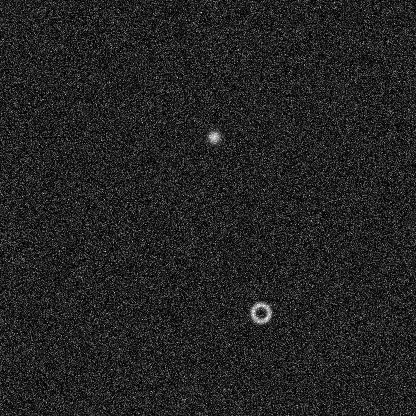Ring: (248, 300, 272, 324)
Spot: (205, 128, 221, 144)
